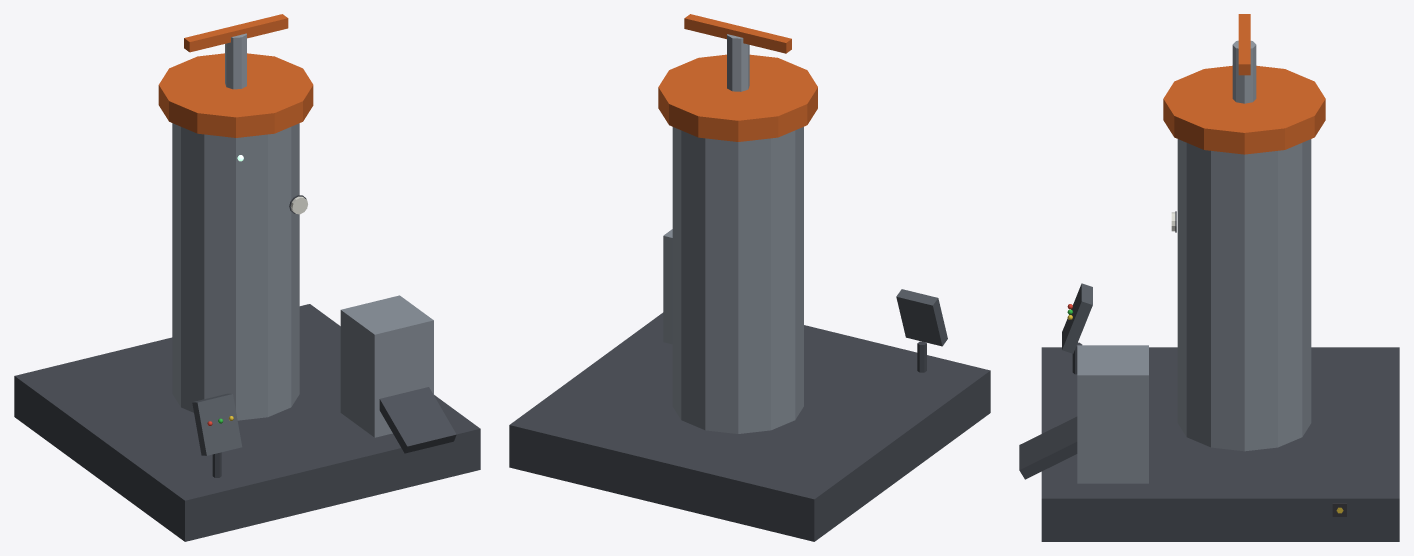
The model's file is AdvancedDrill@Run.fbx.
3 views of the same model, side by side, from view 1: azimuth 30°, elevation 25°; view 2: azimuth 150°, elevation 25°; view 3: azimuth 270°, elevation 25° (orthographic). The views are drawn at different scales.
Visible parts, largest first — view 1: AdvancedDrill_Body, AdvancedDrill_Rotor; view 2: AdvancedDrill_Body, AdvancedDrill_Rotor; view 3: AdvancedDrill_Body, AdvancedDrill_Rotor.
Part boxes in pixels (<box>): AdvancedDrill_Body: <box>14,53,480,541</box>; AdvancedDrill_Rotor: <box>184,14,288,89</box>; AdvancedDrill_Body: <box>509,54,990,541</box>; AdvancedDrill_Rotor: <box>684,14,791,91</box>; AdvancedDrill_Body: <box>1019,65,1399,541</box>; AdvancedDrill_Rotor: <box>1232,14,1256,103</box>.
Size of the model in its own units: 1.51 by 1.98 by 1.59.
